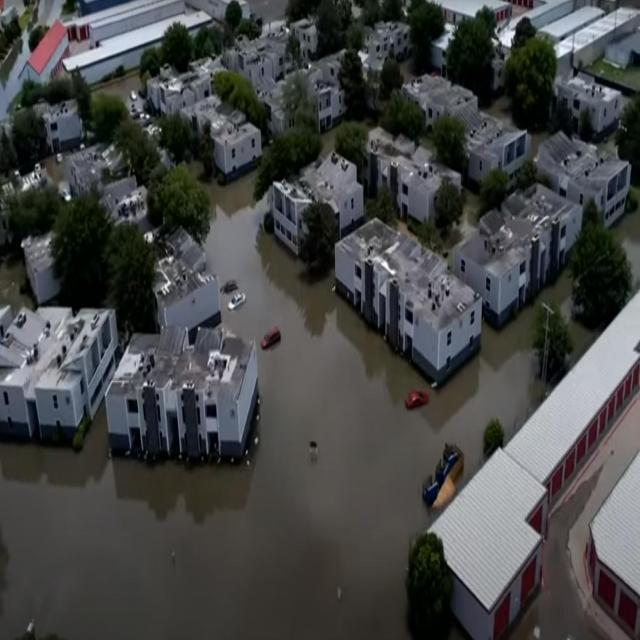flood: (0, 172, 572, 639), (556, 266, 605, 366), (613, 204, 640, 291)
house: (425, 442, 557, 639), (336, 216, 484, 388), (106, 328, 260, 475), (453, 178, 584, 330), (0, 302, 120, 449), (64, 2, 218, 95), (270, 152, 363, 264), (589, 448, 640, 640), (542, 128, 634, 232), (371, 134, 462, 226), (145, 225, 225, 324), (401, 74, 479, 135), (18, 22, 70, 106), (467, 124, 532, 188), (218, 102, 263, 180), (309, 62, 346, 132)
